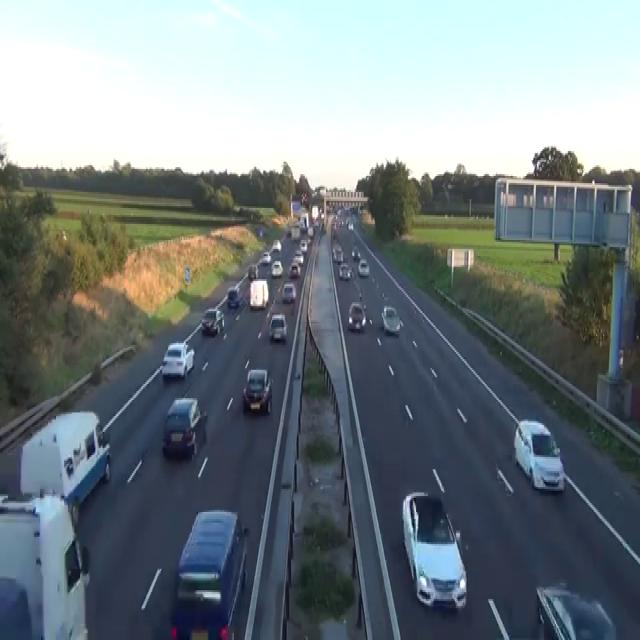Car: (280, 491, 367, 638), (170, 508, 248, 638), (401, 490, 467, 610), (535, 582, 617, 638), (513, 418, 565, 492), (162, 396, 207, 458), (169, 604, 230, 638), (0, 576, 33, 638), (242, 368, 272, 414), (160, 339, 195, 378), (201, 308, 224, 336), (381, 304, 401, 334), (347, 300, 366, 330), (268, 313, 287, 341), (226, 284, 241, 308), (281, 283, 296, 302), (338, 261, 352, 279), (270, 260, 283, 278), (288, 260, 301, 278), (332, 244, 343, 263), (358, 258, 369, 276), (248, 263, 258, 279), (55, 229, 67, 242), (257, 254, 270, 265), (271, 238, 281, 252), (294, 251, 304, 265), (330, 220, 337, 238), (351, 247, 360, 260), (262, 251, 271, 263), (301, 190, 308, 204), (300, 238, 307, 251), (300, 222, 307, 233), (307, 226, 314, 236), (347, 220, 353, 230), (258, 226, 263, 236), (320, 212, 324, 220), (287, 228, 291, 236)
Truck: (0, 491, 90, 638), (17, 409, 111, 526), (249, 279, 268, 309)
